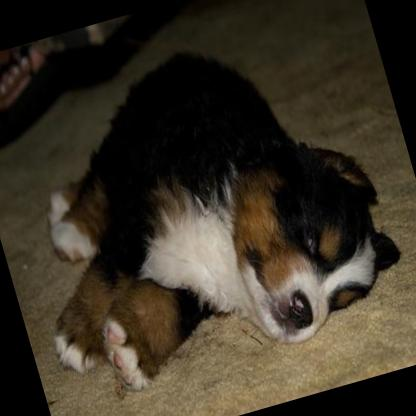Bernese_mountain_dog: (0, 7, 416, 412)
